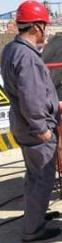boots: (44, 209, 58, 220), (1, 1, 1, 1)
hard-hat: (15, 0, 51, 24)
ppe-suit: (0, 35, 62, 238)
